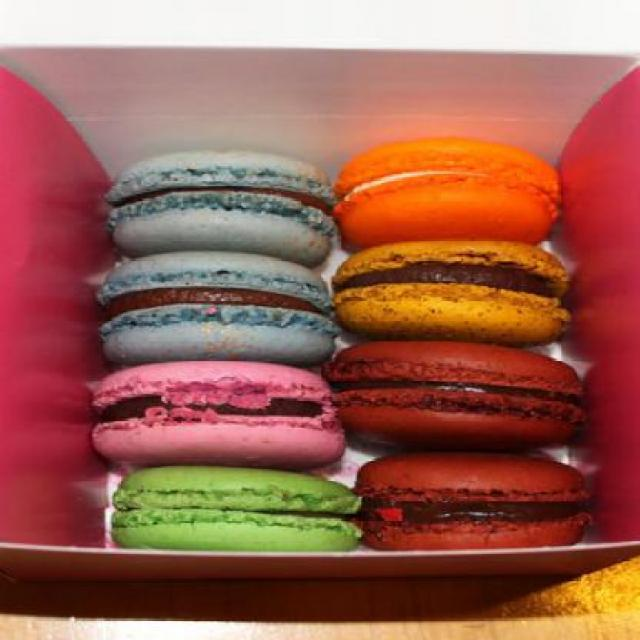Macaron: (94, 133, 614, 578)
